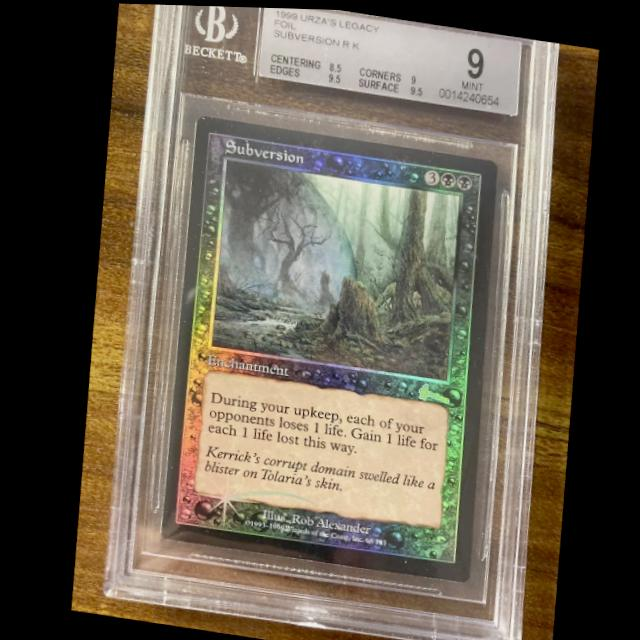bgs_label: (254, 6, 521, 112)
bgs_slab: (95, 4, 559, 640)
card: (154, 112, 497, 579)
